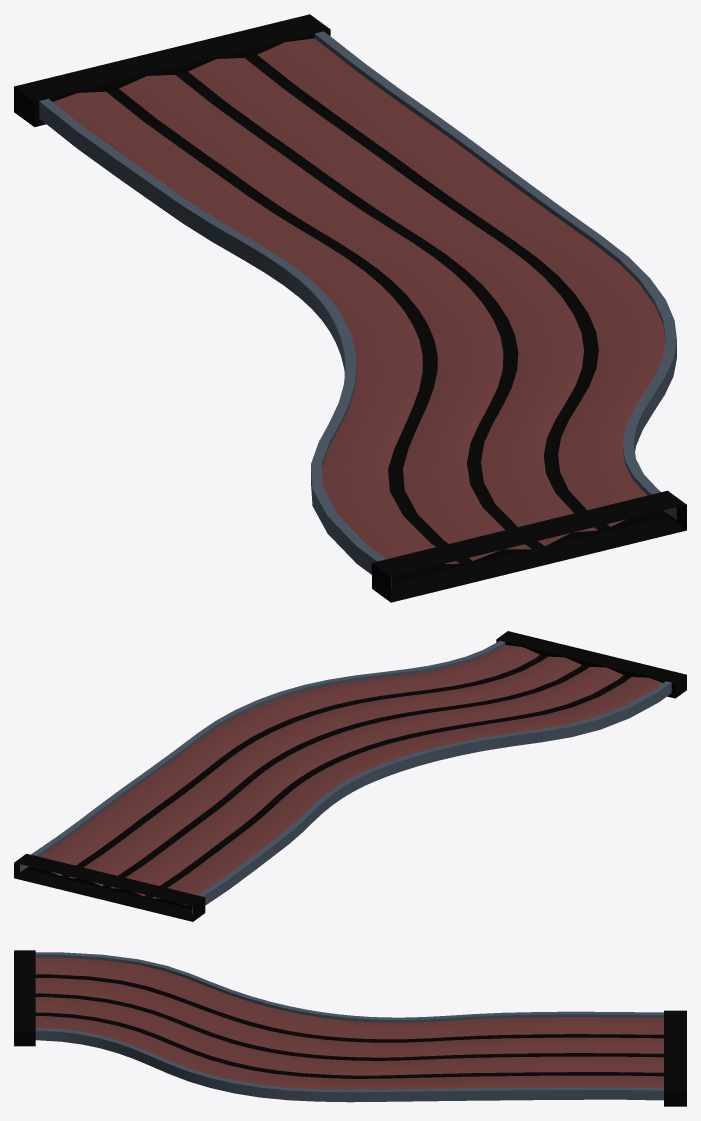
The model's file is Large_Bridge_GEO (1).fbx.
3 renders of one model, top to bottom at view 1: azimuth 30°, elevation 25°; view 2: azimuth 150°, elevation 25°; view 3: azimuth 270°, elevation 25°, orthographic. The views are drawn at different scales.
Parts seen in each view (by area): view 1: Bridge_Large; view 2: Bridge_Large; view 3: Bridge_Large.
Part boxes in pixels (bbox=[...]): Bridge_Large: bbox=[14, 14, 686, 602]; Bridge_Large: bbox=[14, 631, 686, 921]; Bridge_Large: bbox=[14, 950, 686, 1106].
Size of the model in its own units: 2567 by 122 by 5144.
